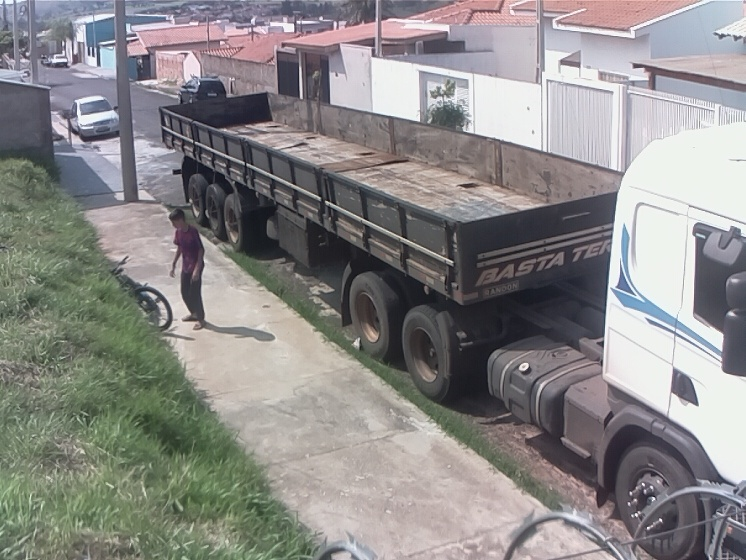person: (167, 206, 208, 335)
